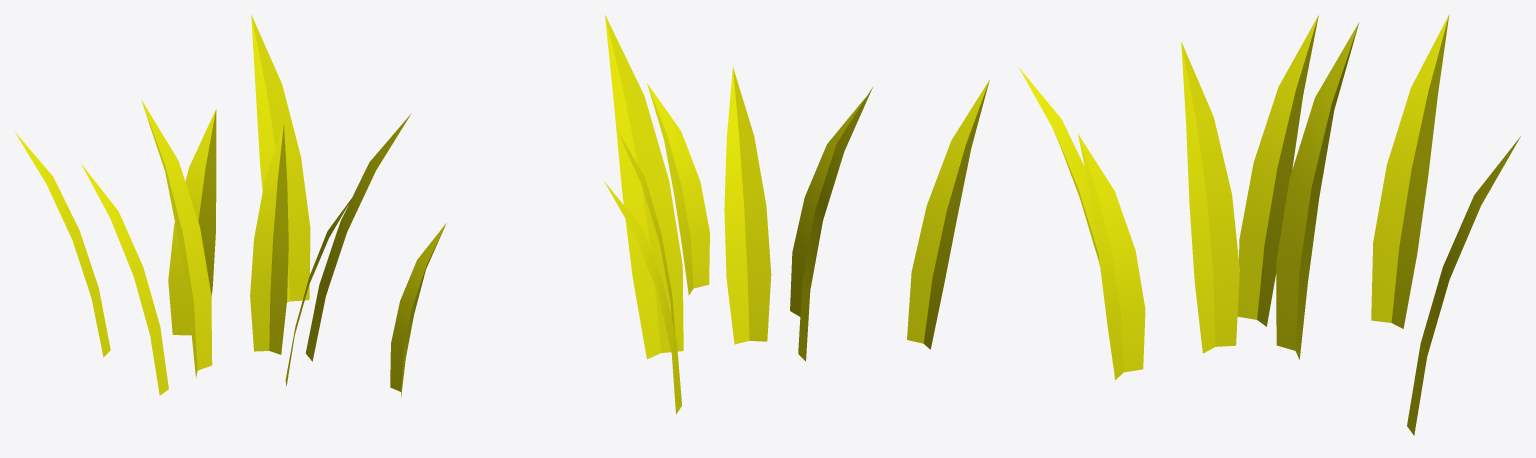
Rendered from kaykit-grass-2-d-singlesided-color-1.glb.
The picture shows the model from 3 angles, left to right: view 1: azimuth 30°, elevation 25°; view 2: azimuth 150°, elevation 25°; view 3: azimuth 270°, elevation 25°; orthographic projection. The views are drawn at different scales.
Visible parts, largest first — view 1: Grass_2_D_Singlesided_Color1; view 2: Grass_2_D_Singlesided_Color1; view 3: Grass_2_D_Singlesided_Color1.
Part boxes in pixels (box(x1,y1,x2,y2)): Grass_2_D_Singlesided_Color1: box(14, 15, 446, 397); Grass_2_D_Singlesided_Color1: box(604, 15, 989, 414); Grass_2_D_Singlesided_Color1: box(1019, 14, 1520, 435).
Size of the model in its own units: 1.08 by 0.9336 by 1.34.
